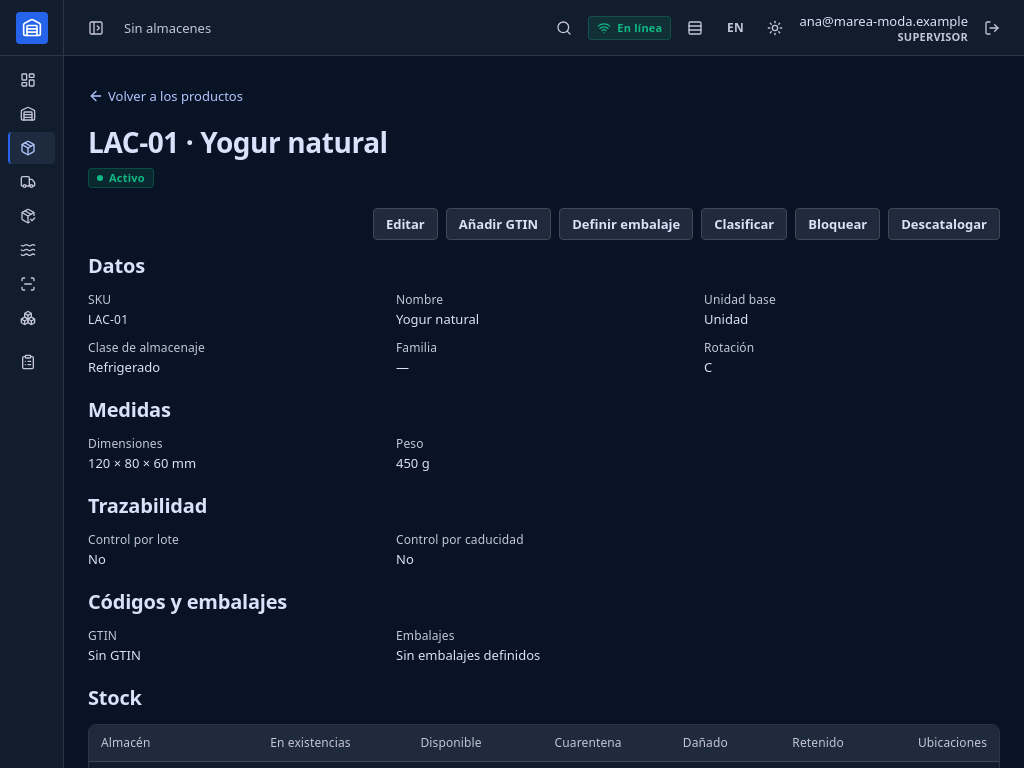
Test: changing a product › adds a GTIN and shows the API refusal inside the form
This screenshot has width=1024, height=768.
Click the button "Añadir GTIN". click: (498, 224)
box: x1=446 y1=208 x2=551 y2=240
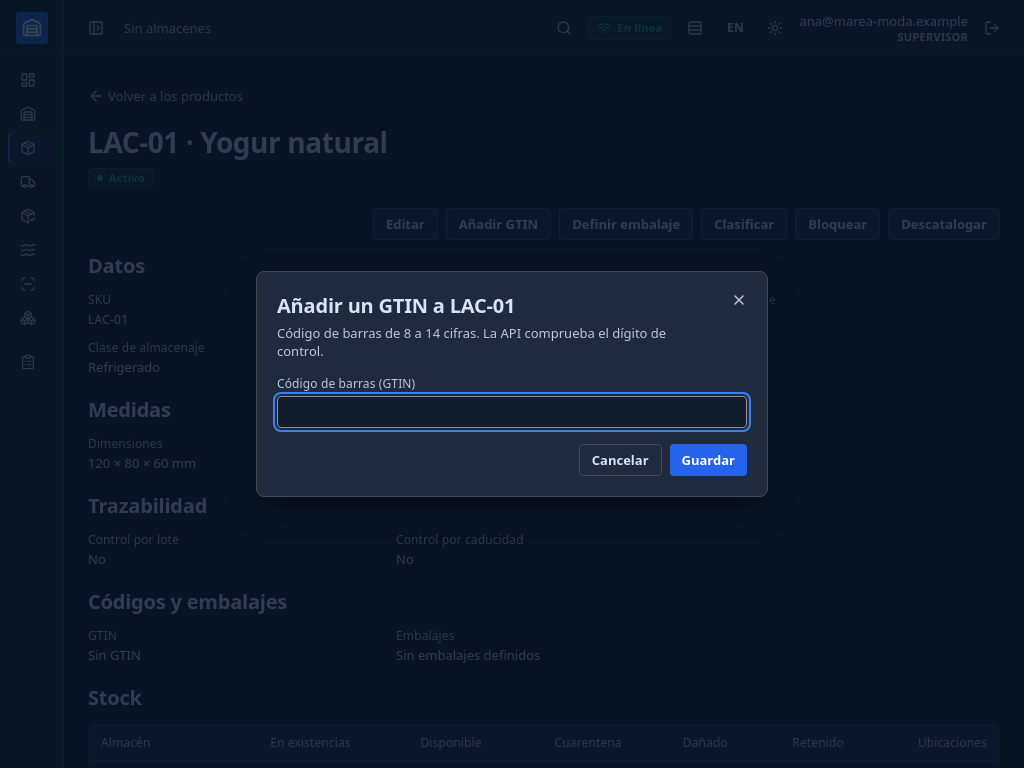
Type "12" into the field labelled "Código de barras (GTIN)". click: (512, 412)
box: x1=277 y1=396 x2=747 y2=428
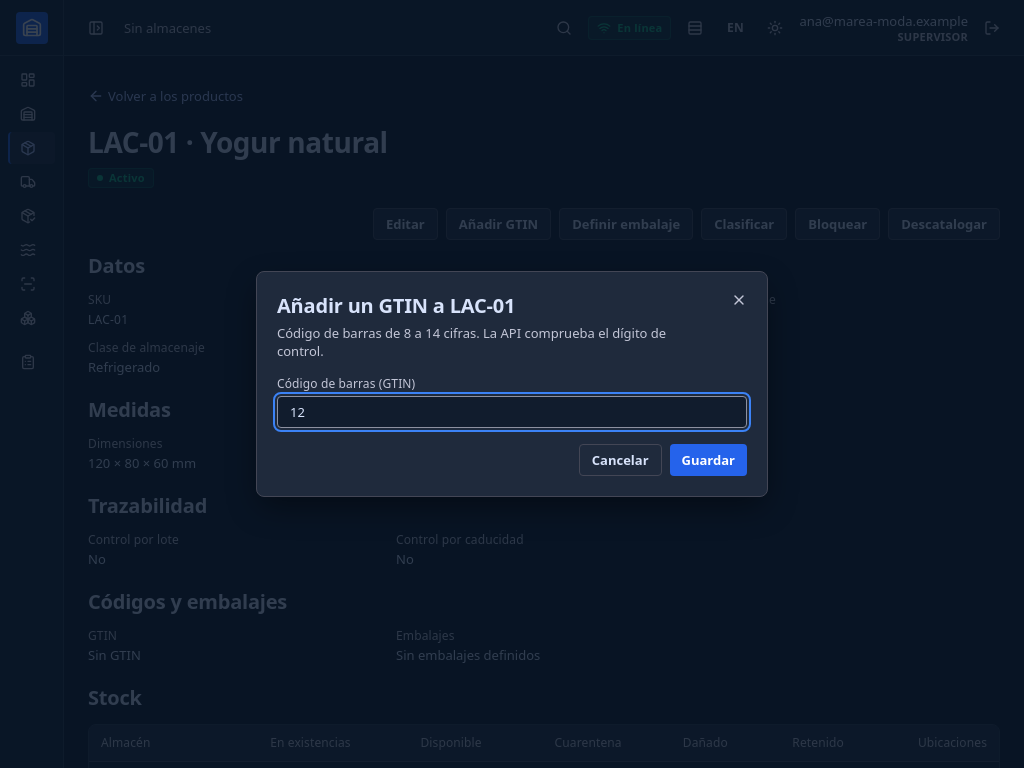
Click the button "Guardar". click: (708, 460)
box: x1=670 y1=444 x2=747 y2=476
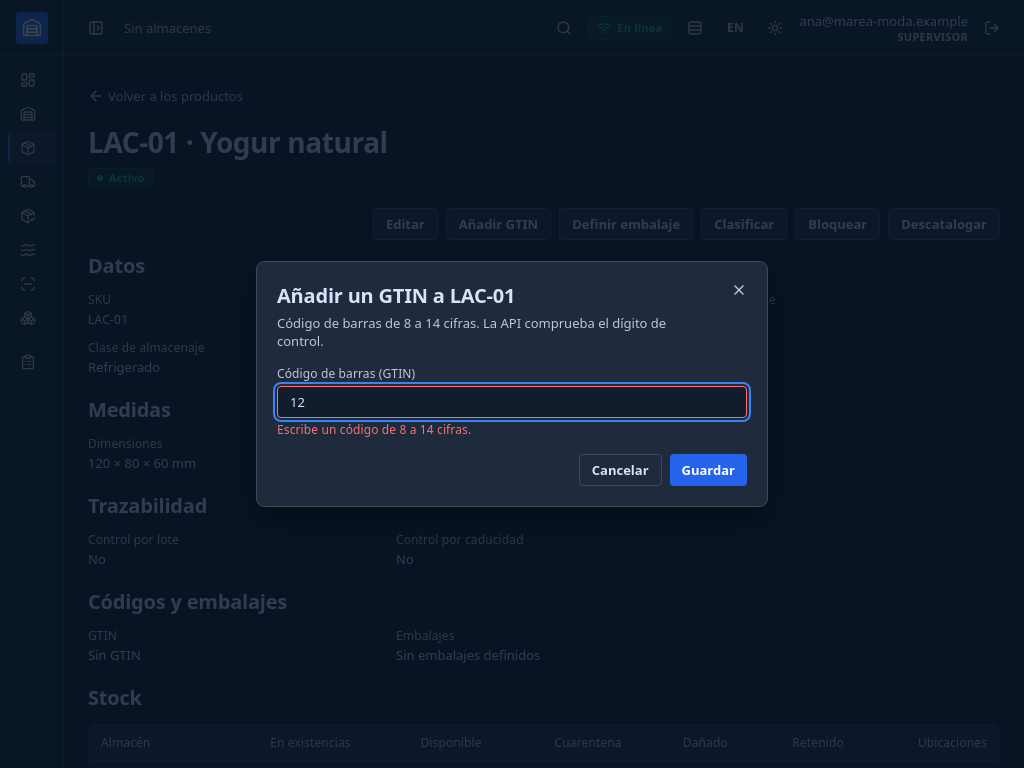
Now the text "Escribe un código de 8 a 14 cifras." is shown, box x1=277 y1=421 x2=471 y2=438
Replace the text in the field labelled "Código de barras (GTIN)" with "8412345678905". click: (512, 402)
box: x1=277 y1=386 x2=747 y2=418
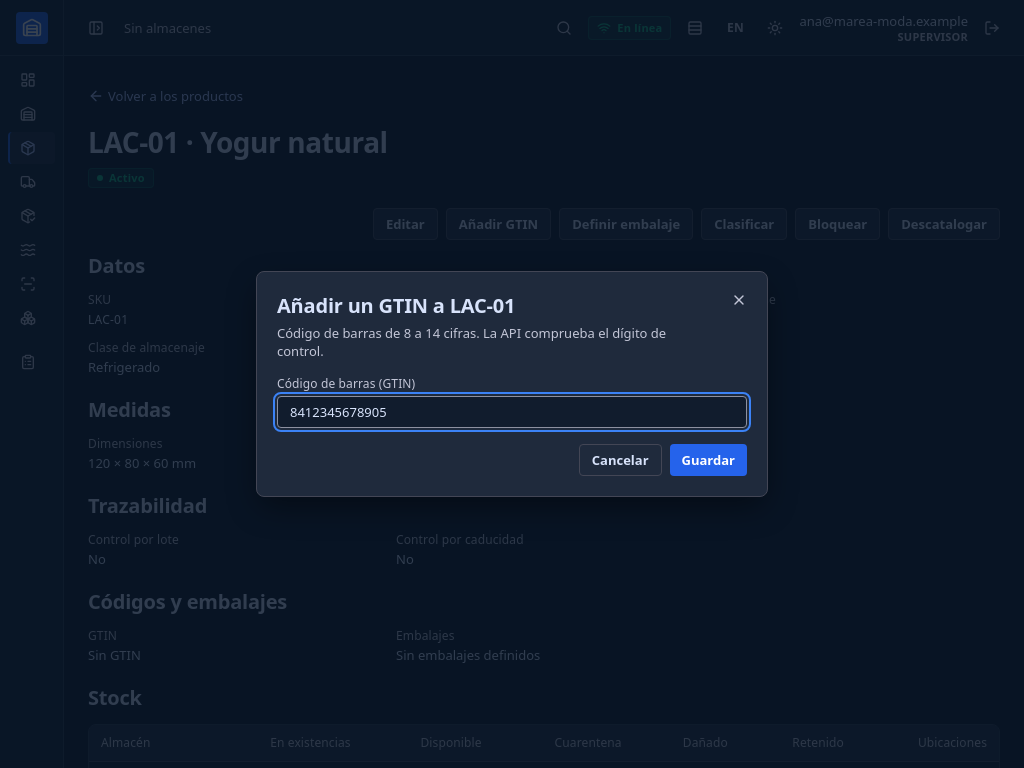
Click the button "Guardar". click: (708, 460)
box: x1=670 y1=444 x2=747 y2=476
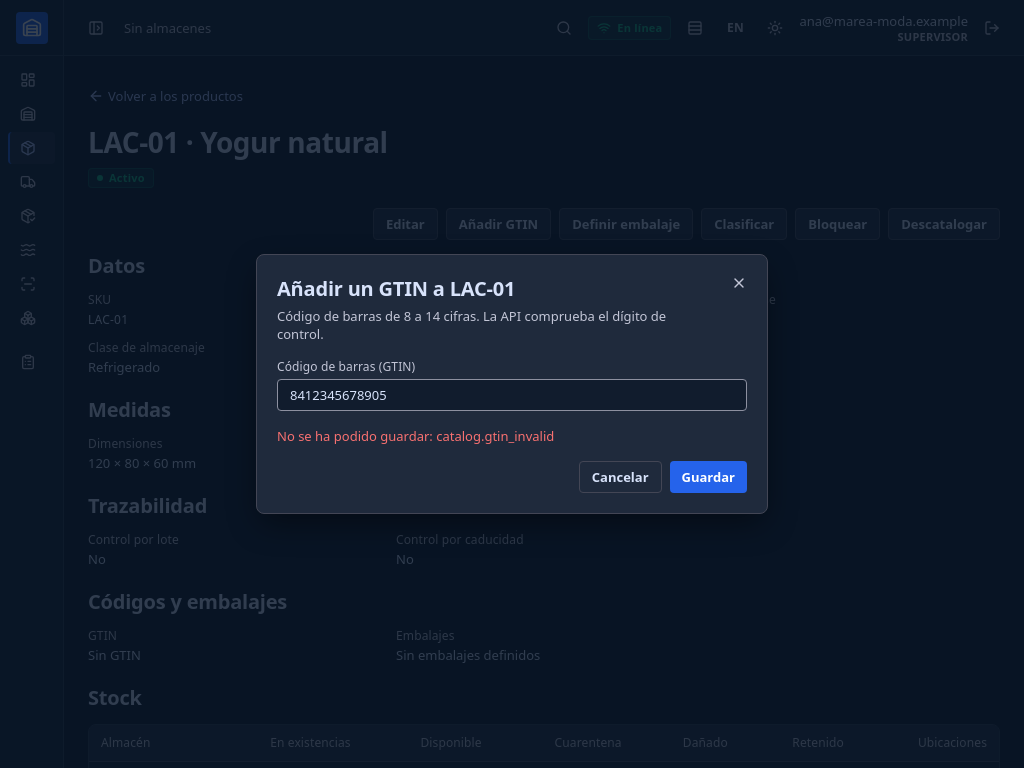
Now the message shows "catalog.gtin_invalid", box x1=277 y1=427 x2=554 y2=445
Click the button "Guardar". click: (708, 477)
box: x1=670 y1=461 x2=747 y2=493
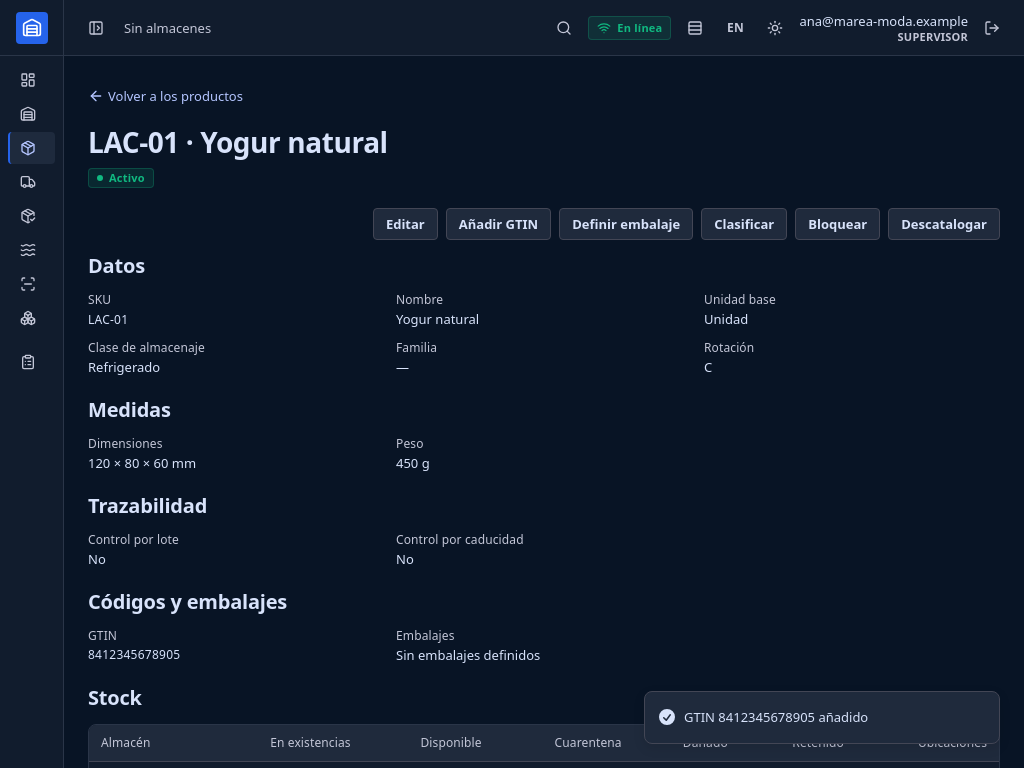
Now the dialog is gone
Now the list item "8412345678905" is shown, box x1=88 y1=646 x2=180 y2=663
